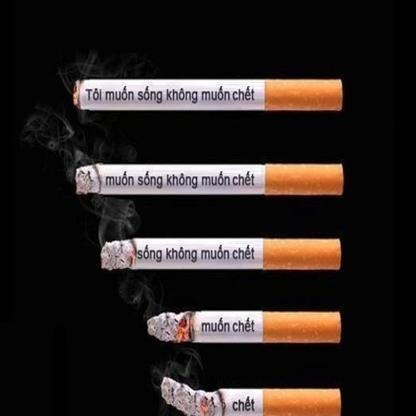trash: (74, 77, 343, 113), (72, 165, 344, 196), (100, 239, 344, 272), (160, 376, 342, 416), (146, 309, 343, 343)
